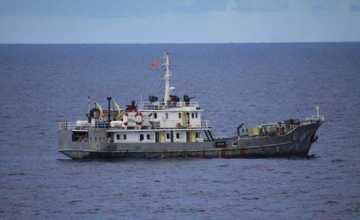otherboat: (52, 47, 332, 163)
